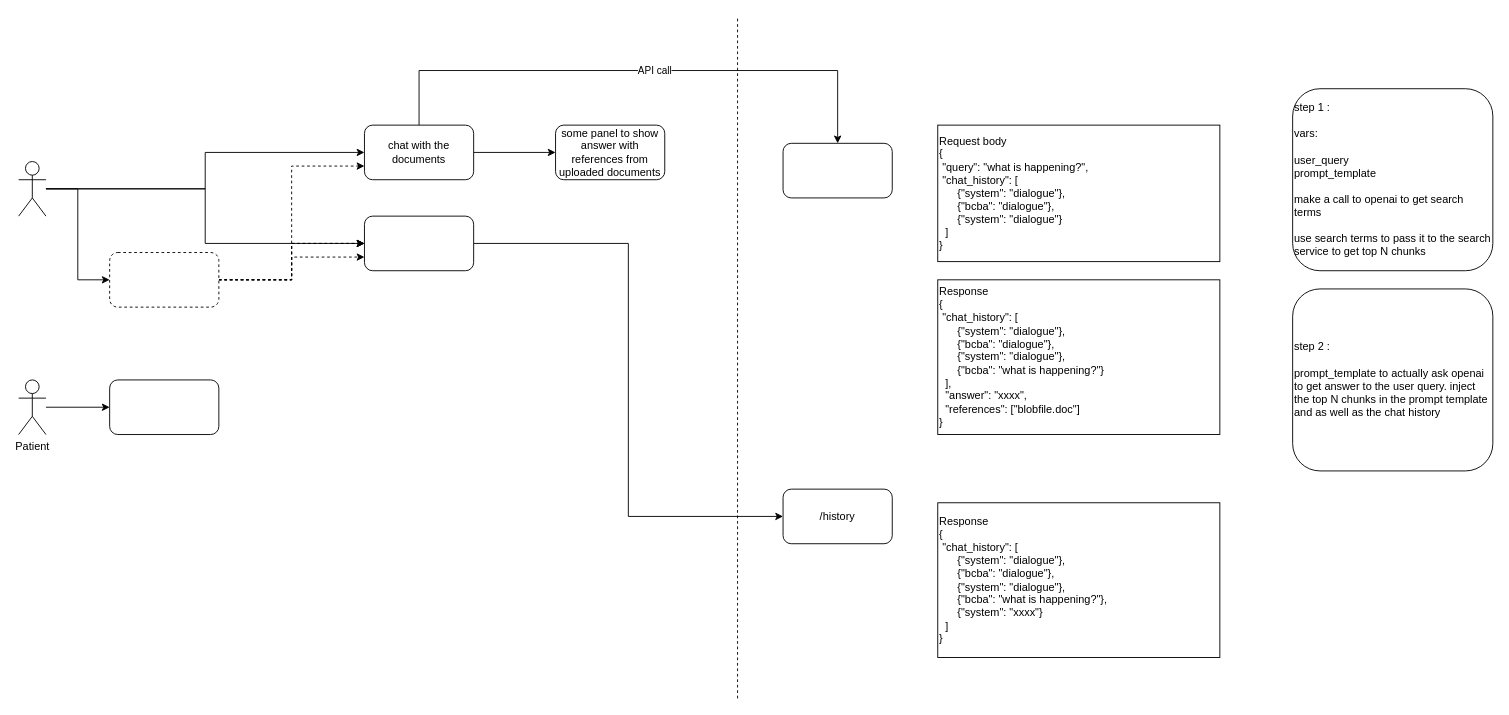
This 1509x715 diagram has some shape labels left out. The shapes that lost their labels are listed below. From the top down, each one's centre as x and y in pixels, then its label:
At (x=32, y=188): "BCBA".
At (x=837, y=170): "/chat".
At (x=419, y=243): "be able to see chat history".
At (x=164, y=279): "Select patient".
At (x=164, y=407): "Upload documents".
